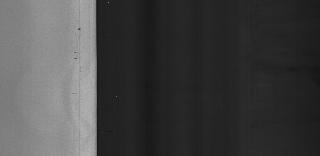oil spot: (72, 24, 86, 38), (72, 50, 80, 62)
